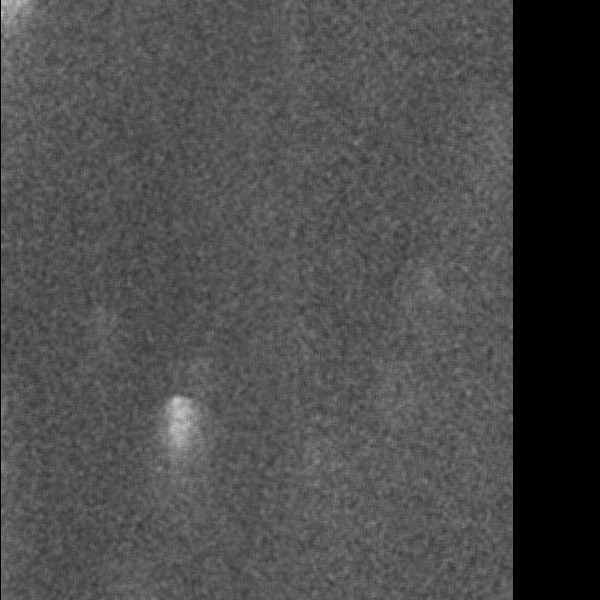spark: (155, 386, 204, 547)
